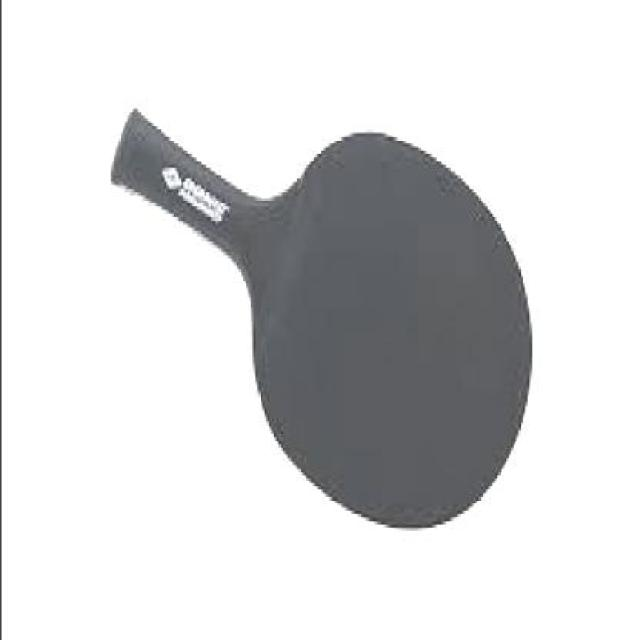table_tennis_racket: (252, 127, 538, 539)
